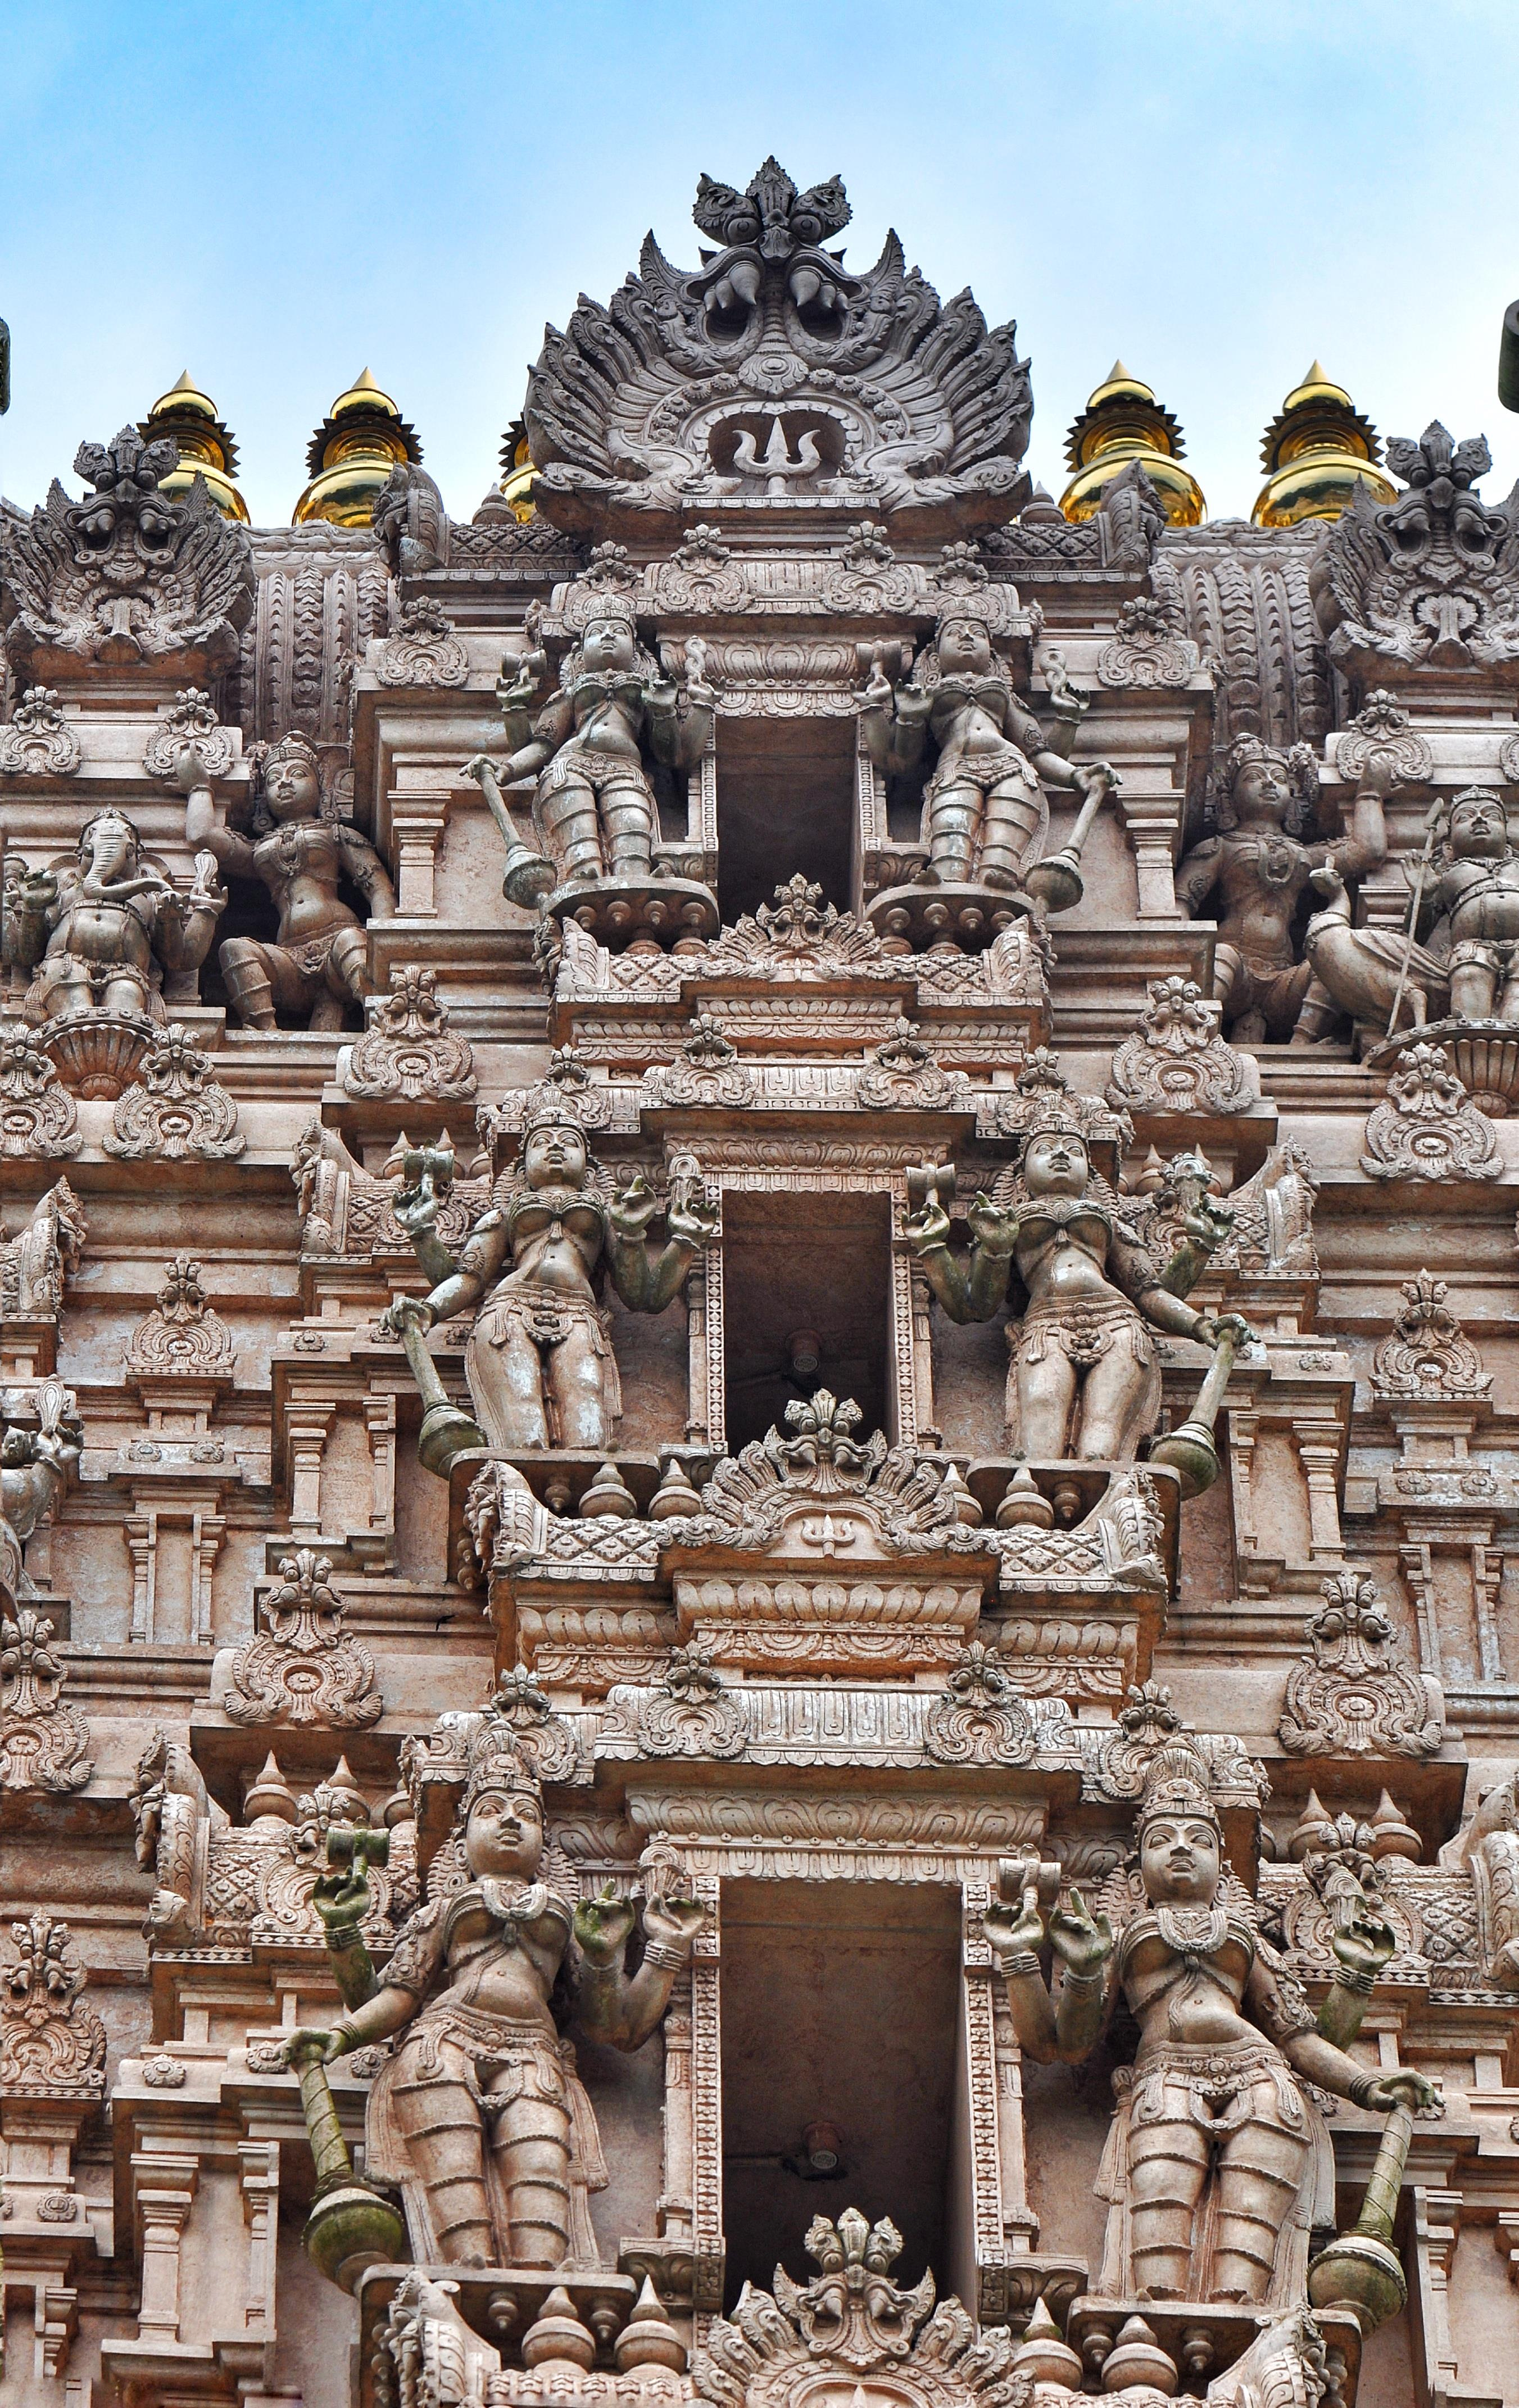Hindu Temple: (5, 126, 1519, 2370)
